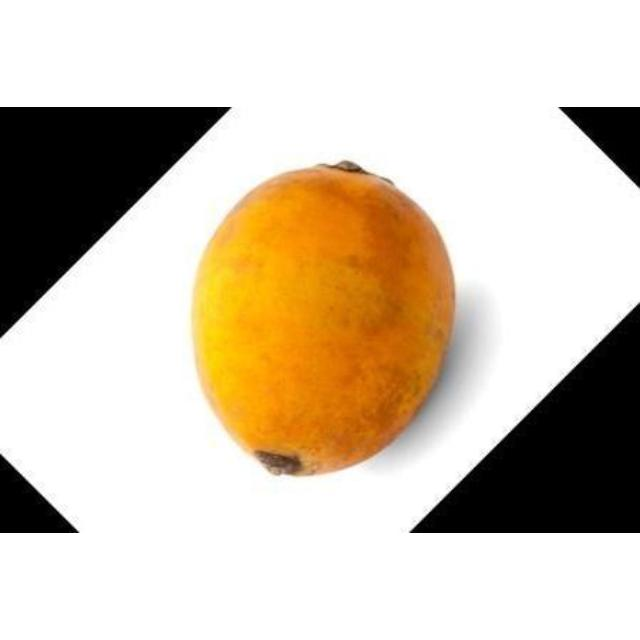good: (189, 162, 457, 478)
